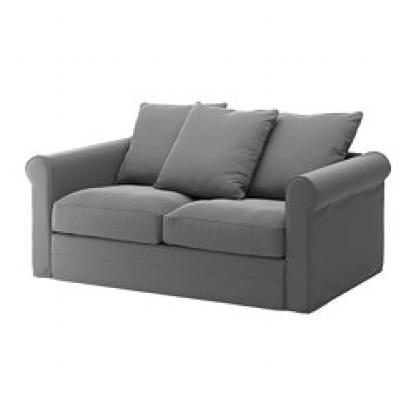Sofa: (17, 78, 396, 328)
